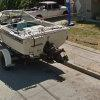Boat: (2, 5, 75, 77)
